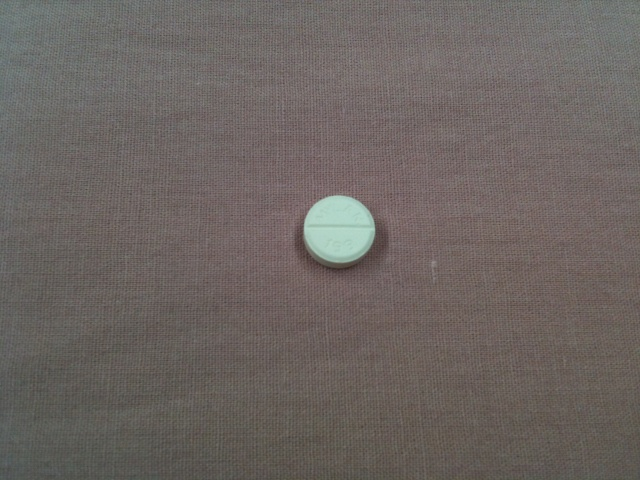|: (294, 217, 384, 234)
